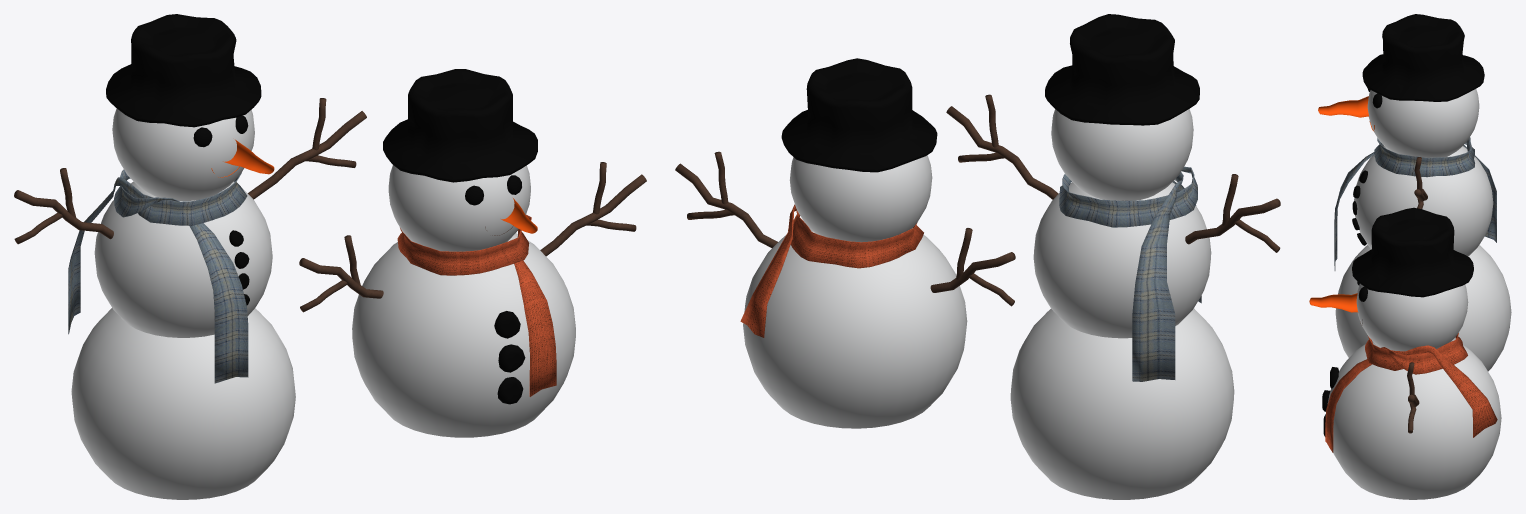
File: snowman_finish.glb
3 views of the same model, side by side, from view 1: azimuth 30°, elevation 25°; view 2: azimuth 150°, elevation 25°; view 3: azimuth 270°, elevation 25° (orthographic). The views are drawn at different scales.
Visible parts, largest first — view 1: snowman2, snowman1; view 2: snowman2, snowman1; view 3: snowman1, snowman2.
Boxes of the visible parts, left/top/right/bottom form: snowman2: left=14, top=14, right=366, bottom=499; snowman1: left=299, top=69, right=646, bottom=437; snowman2: left=946, top=14, right=1280, bottom=499; snowman1: left=675, top=58, right=1015, bottom=428; snowman1: left=1309, top=207, right=1501, bottom=499; snowman2: left=1318, top=14, right=1511, bottom=371.
Size of the model in its own units: 2.61 by 1.74 by 0.943.
2 materials, 2 textured.
